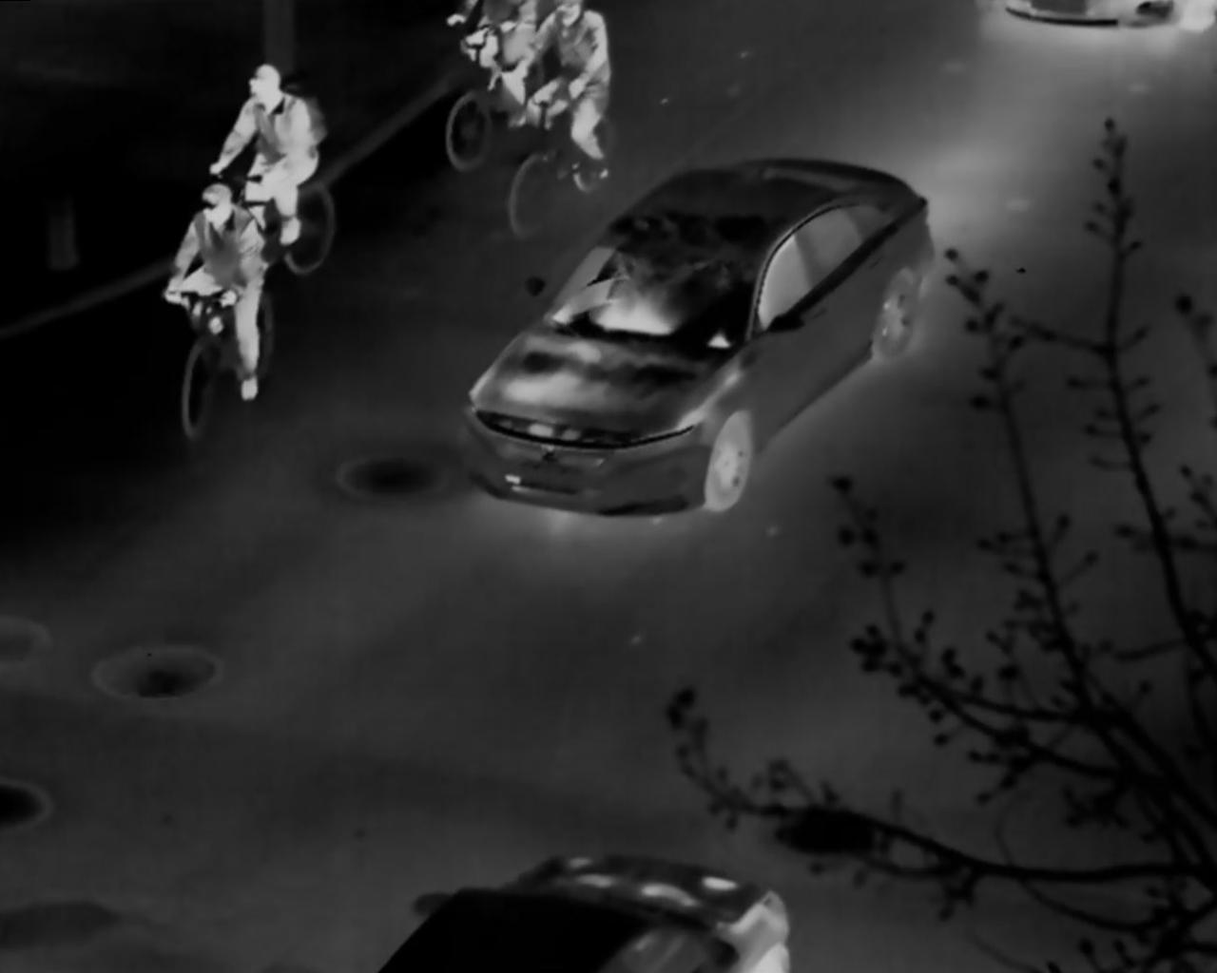person: (160, 183, 268, 401), (210, 62, 327, 245)
